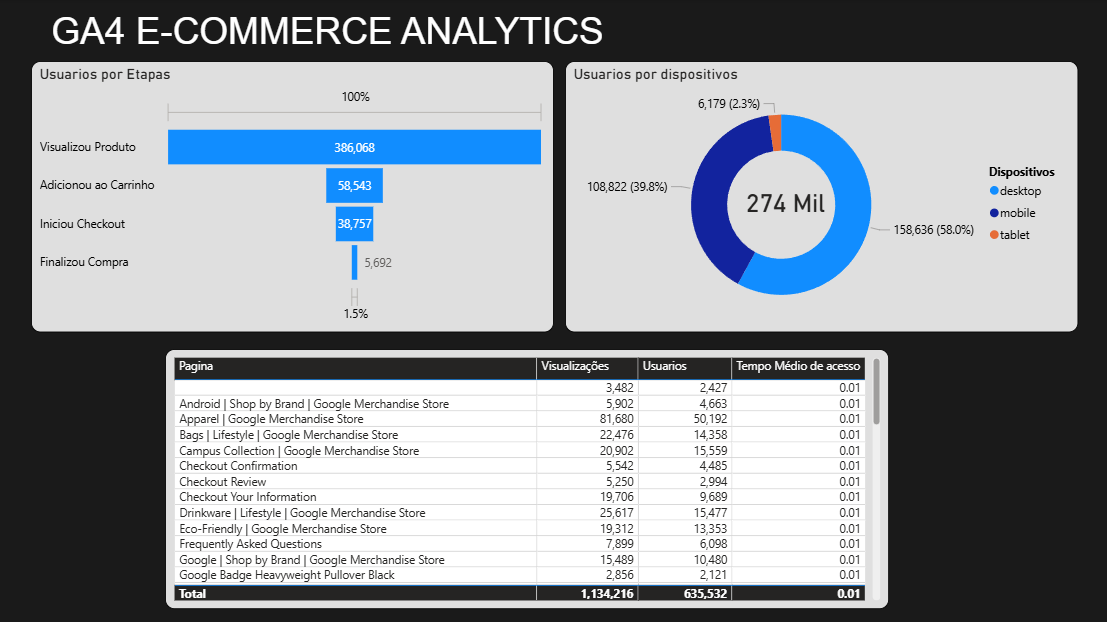

The page's visual inventory and layout, read from the dashboard file:
{"tool":"powerbi","page":{"name":"Comportamento e Funil","canvas":[1280,720],"ordinal":2},"visuals":[{"type":"funnel","title":"Usuarios por Etapas","fields":{"Category":["vw_funil_conversao.etapa"],"Y":["Sum(vw_funil_conversao.usuarios)"]},"box":[36.9,71.5,603.1,312.5],"z":0},{"type":"donutChart","title":"Usuarios por dispositivos","fields":{"Category":["vw_comportamento_dispositivo.dispositivo"],"Y":["Sum(vw_comportamento_dispositivo.usuarios)"]},"box":[652.7,71.5,591.6,312.5],"z":1000},{"type":"tableEx","fields":{"Values":["vw_top_paginas.titulo_pagina","Sum(vw_top_paginas.visualizacoes)","Sum(vw_top_paginas.usuarios_unicos)","Avg(vw_top_paginas.tempo_medio_seg)"]},"box":[191.4,403.6,834.9,299.8],"z":2000},{"type":"textbox","box":[55.4,8.1,807.2,63.4],"z":3000},{"type":"card","fields":{"Values":["Sum(vw_comportamento_dispositivo.usuarios)"]},"box":[787.6,83,238.7,301],"z":3001}]}

Visuals, with their boxes in screenshot pixels (x1, y1, x2, y2), scaled from the page's 1280x720 canvas onto the 1107x622 screenshot:
"Usuarios por Etapas" funnel: 32:62:554:332
"Usuarios por dispositivos" donutChart: 564:62:1076:332
tableEx - vw_top_paginas.titulo_pagina x Sum(vw_top_paginas.visualizacoes): 166:349:888:608
textbox: 48:7:746:62
card - Sum(vw_comportamento_dispositivo.usuarios): 681:72:888:332
